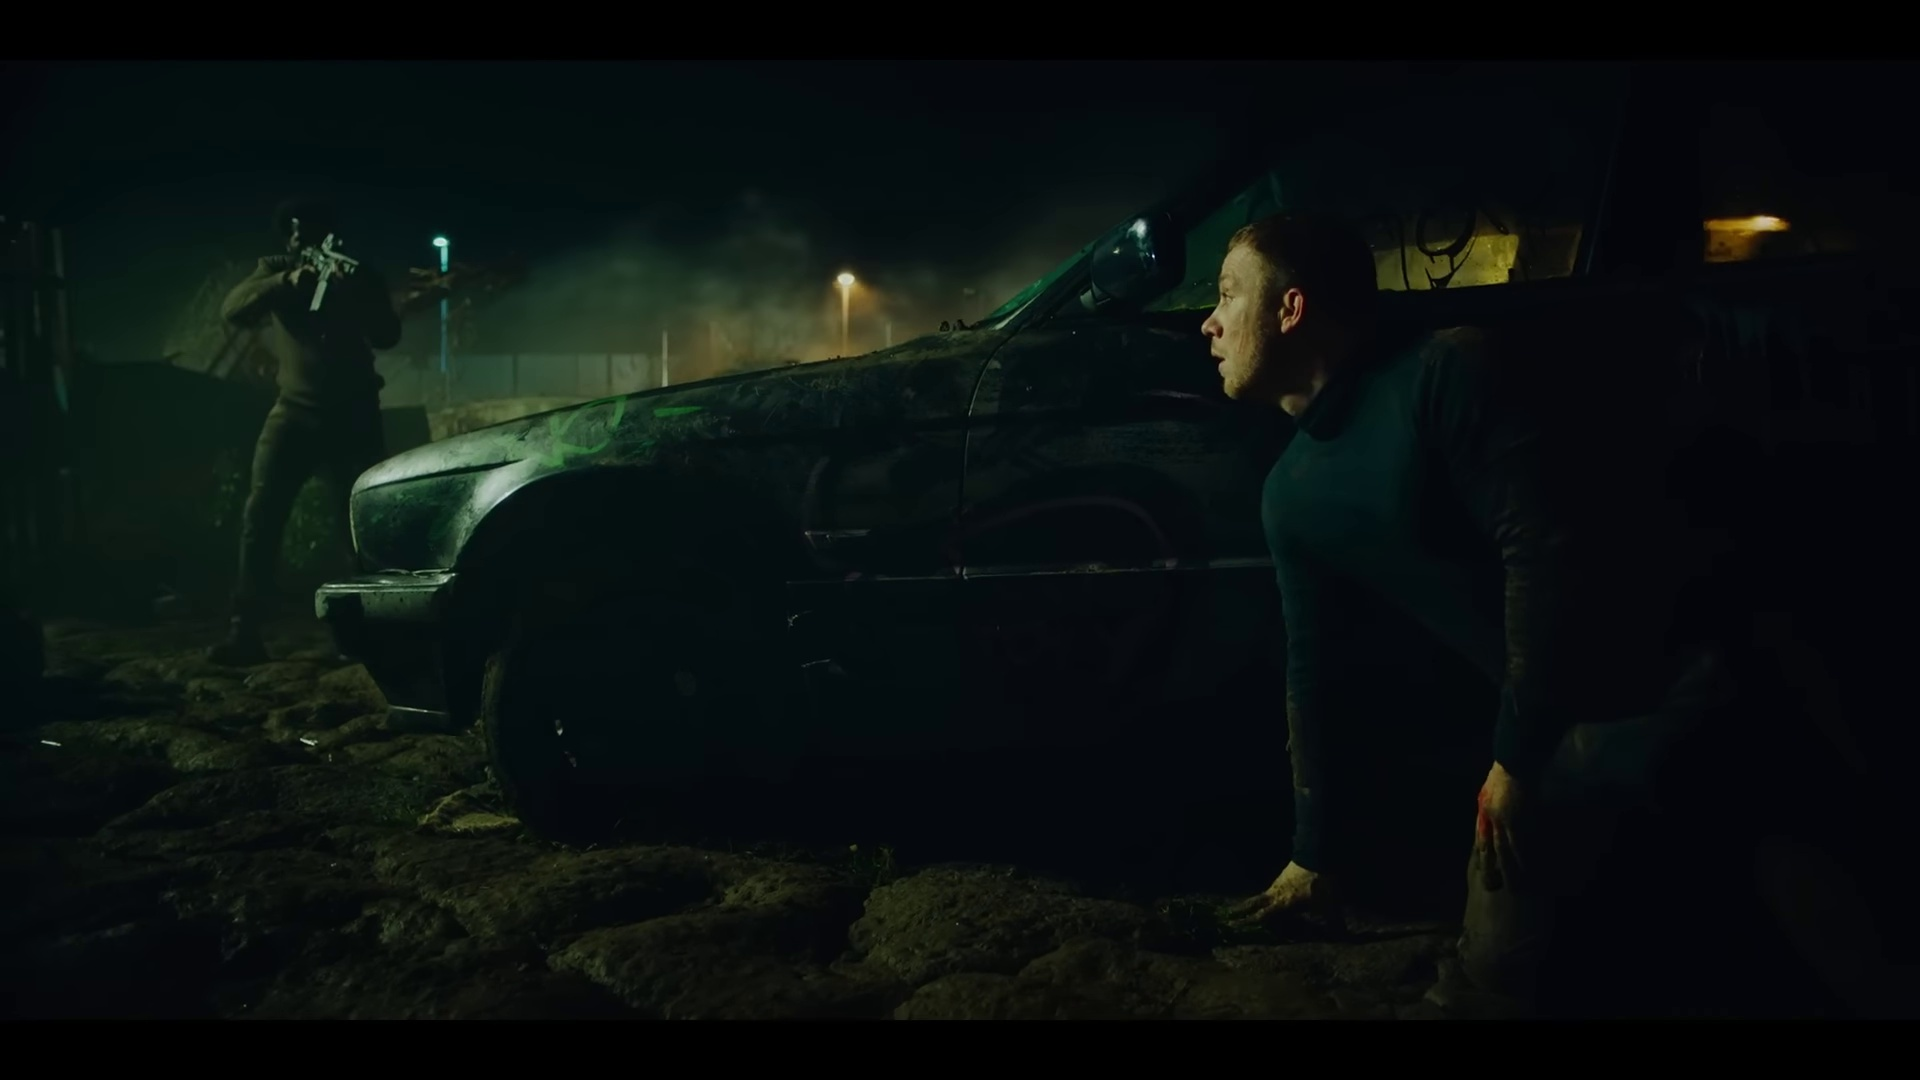gun: (290, 228, 367, 319)
p_w_gun: (203, 187, 405, 670)
p_wo_gun_not_carrying_normal_pose: (1191, 202, 1816, 1026)
